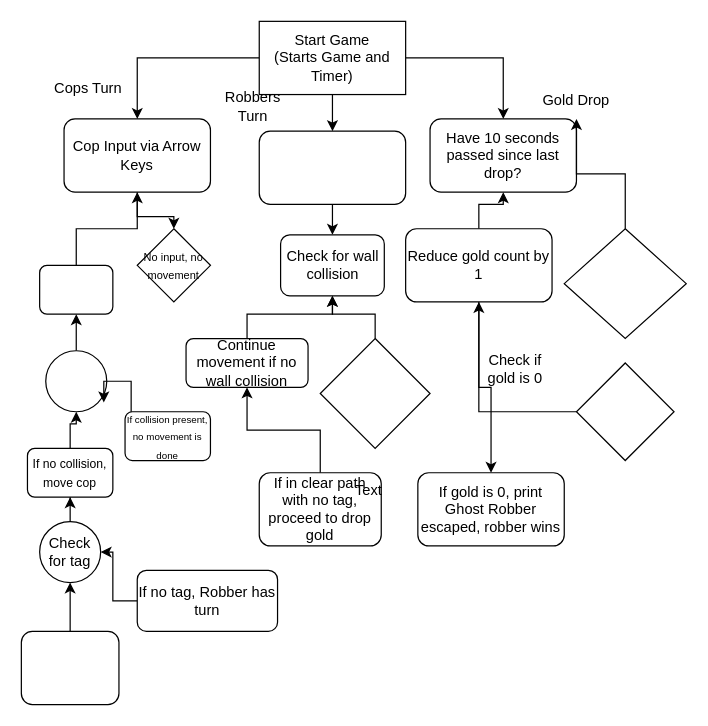
The diagram is 708 pixels wide and 726 high, and some of its shapes have lost their labels. Here are the shapes that lost their labels. From the top down, the centre of each, then its label:
At (332,167): "Robber starts movement".
At (75,289): "Move Cop".
At (624,283): "No, then return to cops turn".
At (76,381): "Check for collision".
At (374,392): "Prevent movement if collision is there".
At (624,411): "If no then return to cops turn".
At (69,667): "If tag is successful, Cop Wins, end of game".
